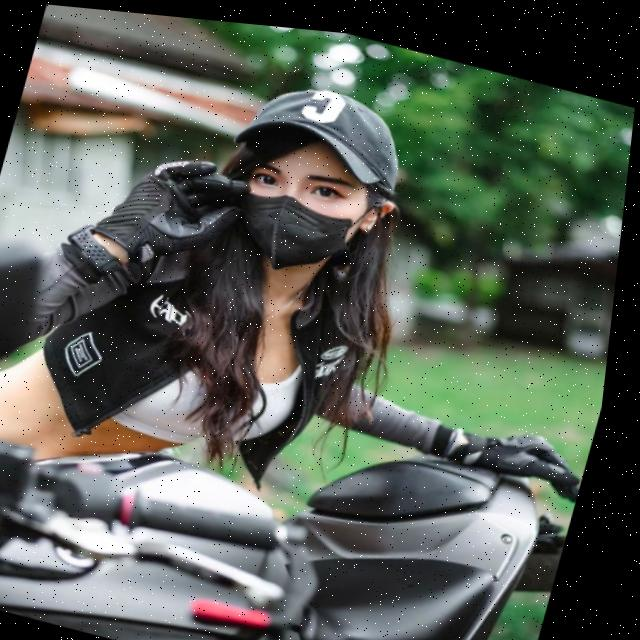illegal_helmet: (197, 54, 432, 297)
